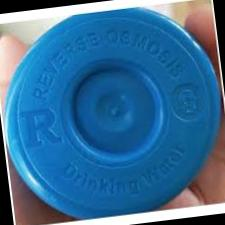Plastik: (1, 6, 223, 221)
